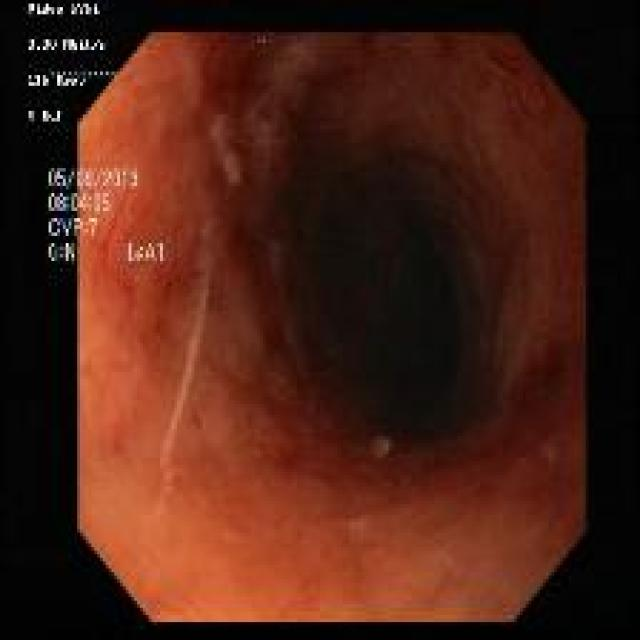ulcerative-colitis: (76, 33, 585, 621)
